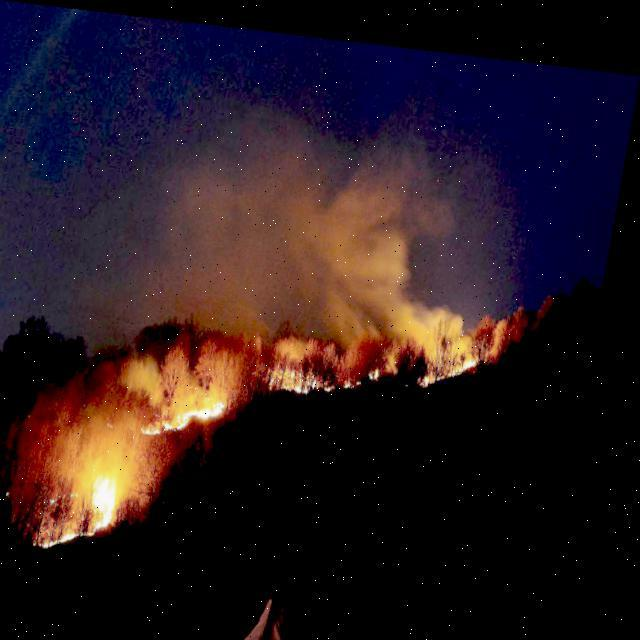Fire: (48, 464, 142, 555), (273, 341, 398, 402), (153, 382, 247, 443), (432, 329, 492, 378)
